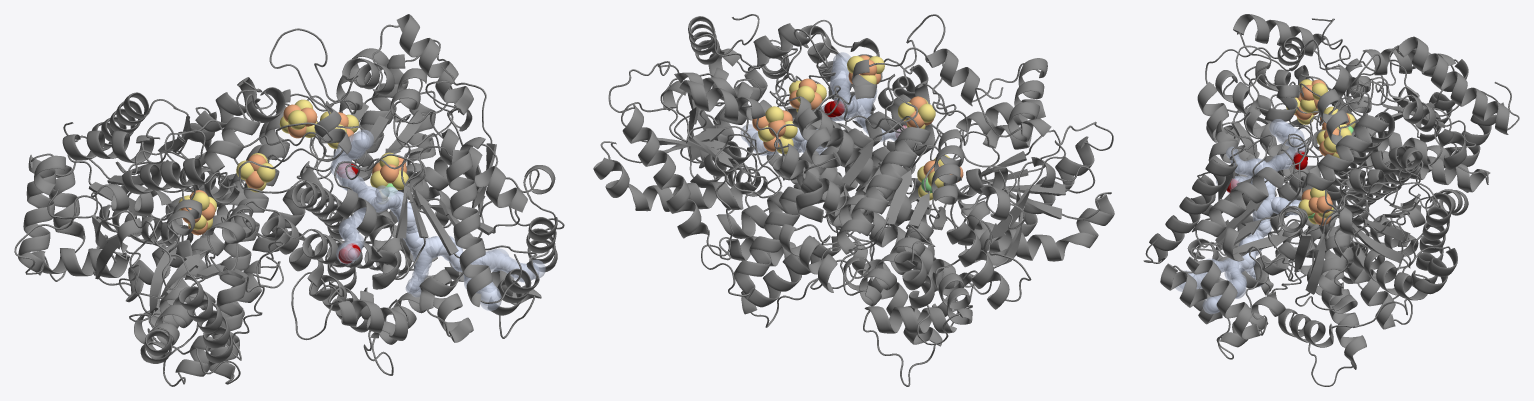
The picture shows the model from 3 angles, left to right: view 1: azimuth 30°, elevation 25°; view 2: azimuth 150°, elevation 25°; view 3: azimuth 270°, elevation 25°; orthographic projection. The views are drawn at different scales.
Parts seen in each view (by area): view 1: Fixed_Protein_and_Metals, Fixed_Transparent_Tunnel, O2_Trajectory_F2; view 2: Fixed_Protein_and_Metals, Fixed_Transparent_Tunnel; view 3: Fixed_Protein_and_Metals, Fixed_Transparent_Tunnel.
Boxes of the visible parts, x1,y1,x2,y2 form: Fixed_Protein_and_Metals: (14,14,564,386); Fixed_Transparent_Tunnel: (330,129,545,310); O2_Trajectory_F2: (337,163,360,263); Fixed_Protein_and_Metals: (593,14,1114,386); Fixed_Transparent_Tunnel: (740,52,907,155); Fixed_Protein_and_Metals: (1143,14,1519,386); Fixed_Transparent_Tunnel: (1175,119,1306,314).
Size of the model in its own units: 96.07 by 68.34 by 76.68.
